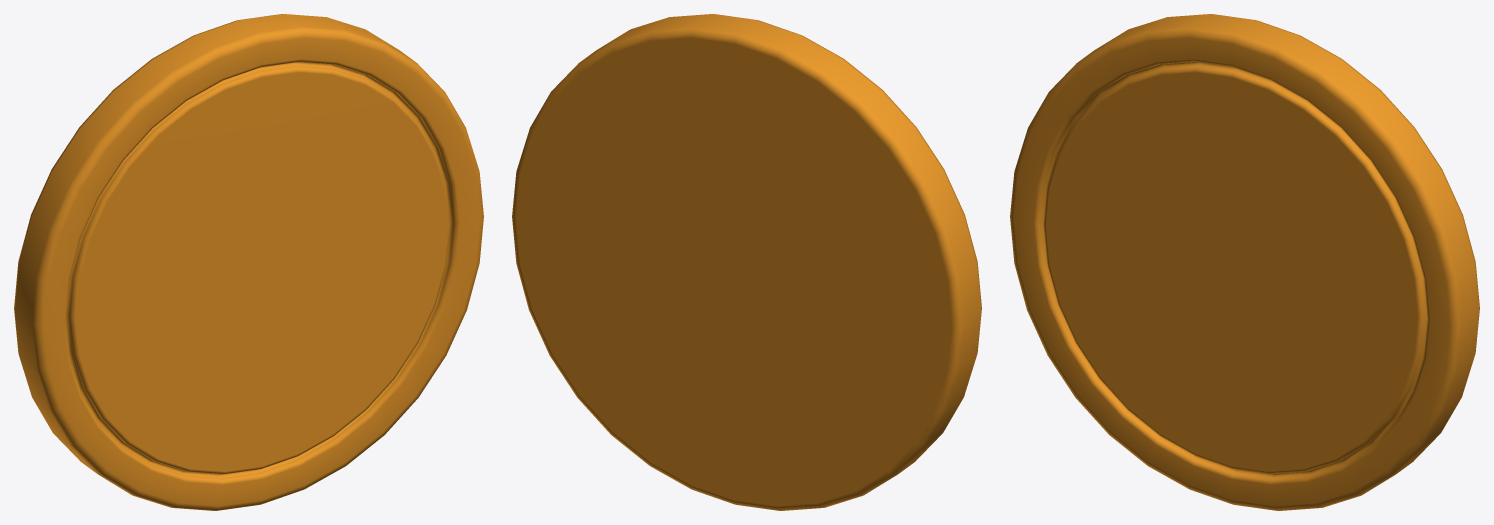
The model's file is Coin.fbx.
3 renders of one model, left to right at view 1: azimuth 30°, elevation 25°; view 2: azimuth 150°, elevation 25°; view 3: azimuth 330°, elevation 25°, orthographic.
Parts seen in each view (by area): view 1: Cylinder; view 2: Cylinder; view 3: Cylinder.
Part boxes in pixels (x1,y1,x2,y2): Cylinder: (14, 14, 483, 510); Cylinder: (512, 14, 981, 510); Cylinder: (1010, 14, 1479, 510).
Bounding box in the file's own units: 20 × 20 × 2.
